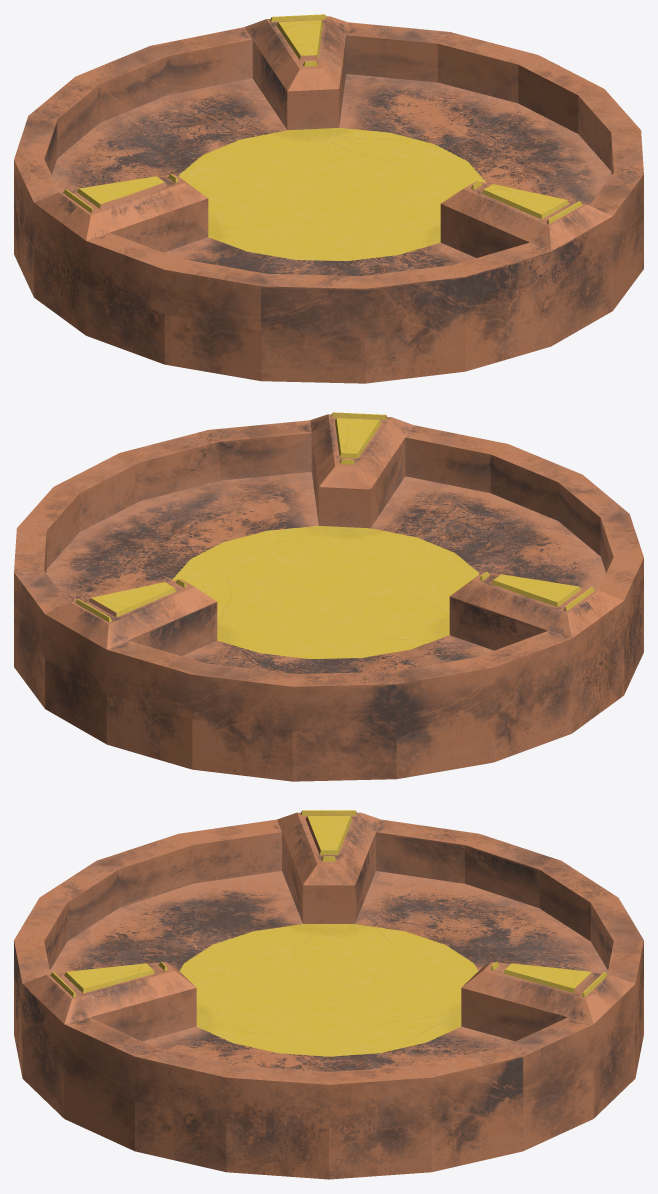
File: PuzzlePieceSpaceCircle.fbx
3 renders of one model, top to bottom at view 1: azimuth 30°, elevation 25°; view 2: azimuth 150°, elevation 25°; view 3: azimuth 270°, elevation 25°, orthographic.
Visible parts, largest first — view 1: Cylinder001; view 2: Cylinder001; view 3: Cylinder001.
Part boxes in pixels (x1,y1,x2,y2): Cylinder001: (14, 14, 643, 383); Cylinder001: (14, 412, 643, 781); Cylinder001: (14, 810, 643, 1179).
Size of the model in its own units: 138 by 27.42 by 139.
Materials: 1 (1 with a texture image).
